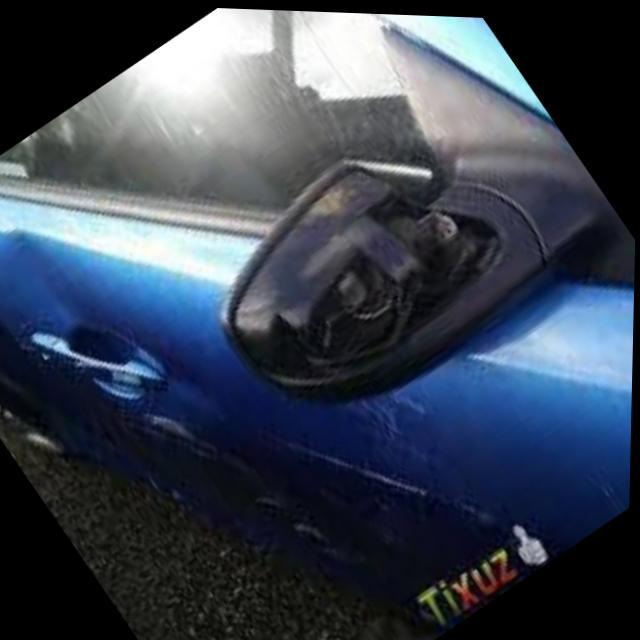dent: (0, 224, 94, 336)
